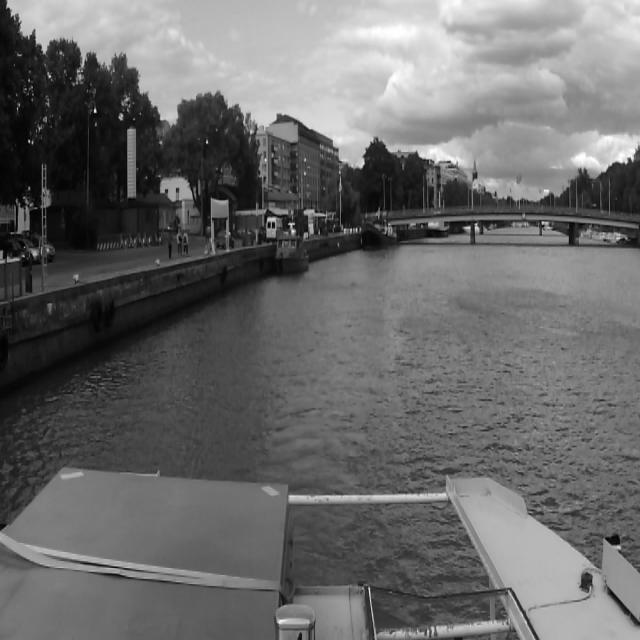ship: (275, 232, 309, 277), (359, 208, 388, 248), (426, 191, 450, 237), (462, 220, 486, 237), (386, 222, 398, 243)
